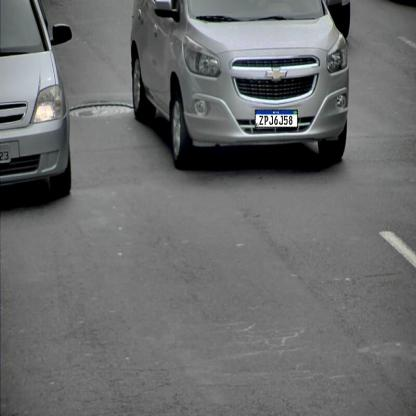PlacaM: (255, 110, 298, 127)
